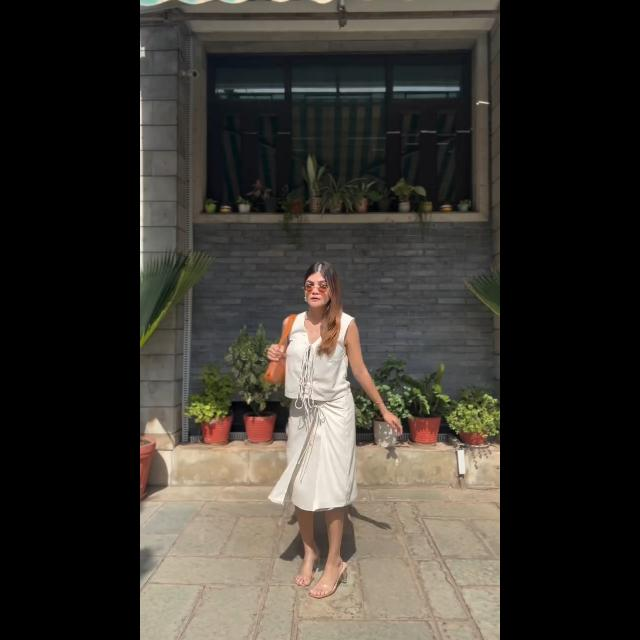dress: (287, 317, 357, 509)
glasses: (304, 278, 326, 288)
handbag: (266, 318, 290, 382)
shoes: (313, 556, 347, 598), (295, 550, 315, 584)
